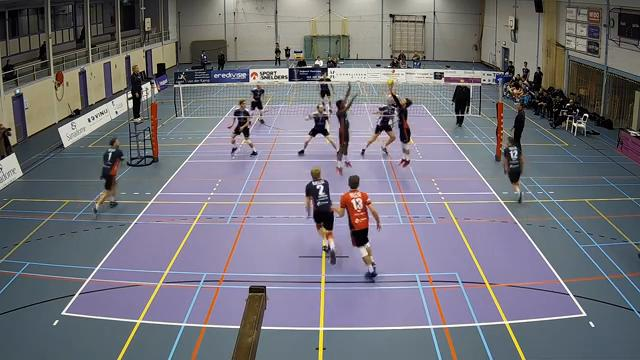alzata: (384, 77, 417, 171)
